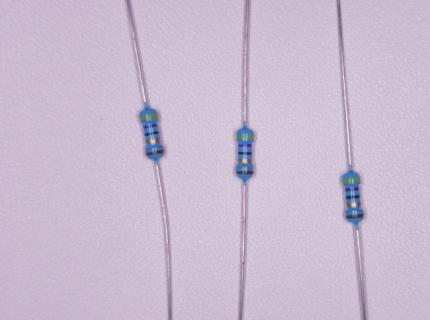Black band: (145, 131, 159, 137), (345, 195, 360, 199), (238, 152, 252, 155)
Brown band: (146, 149, 164, 156), (345, 214, 364, 219), (236, 171, 253, 174)
Gold band: (146, 138, 160, 144), (238, 159, 252, 164), (347, 202, 361, 207)
Violet band: (144, 124, 158, 128), (238, 144, 252, 148), (345, 187, 359, 191)
Yellow band: (140, 114, 158, 120), (342, 178, 360, 183), (236, 135, 254, 139)
